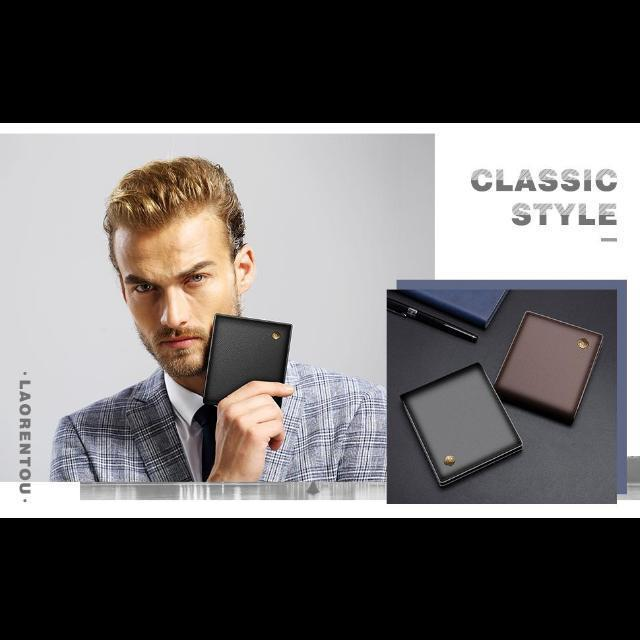wallet: (394, 360, 524, 490), (492, 302, 604, 430), (202, 312, 292, 411)
